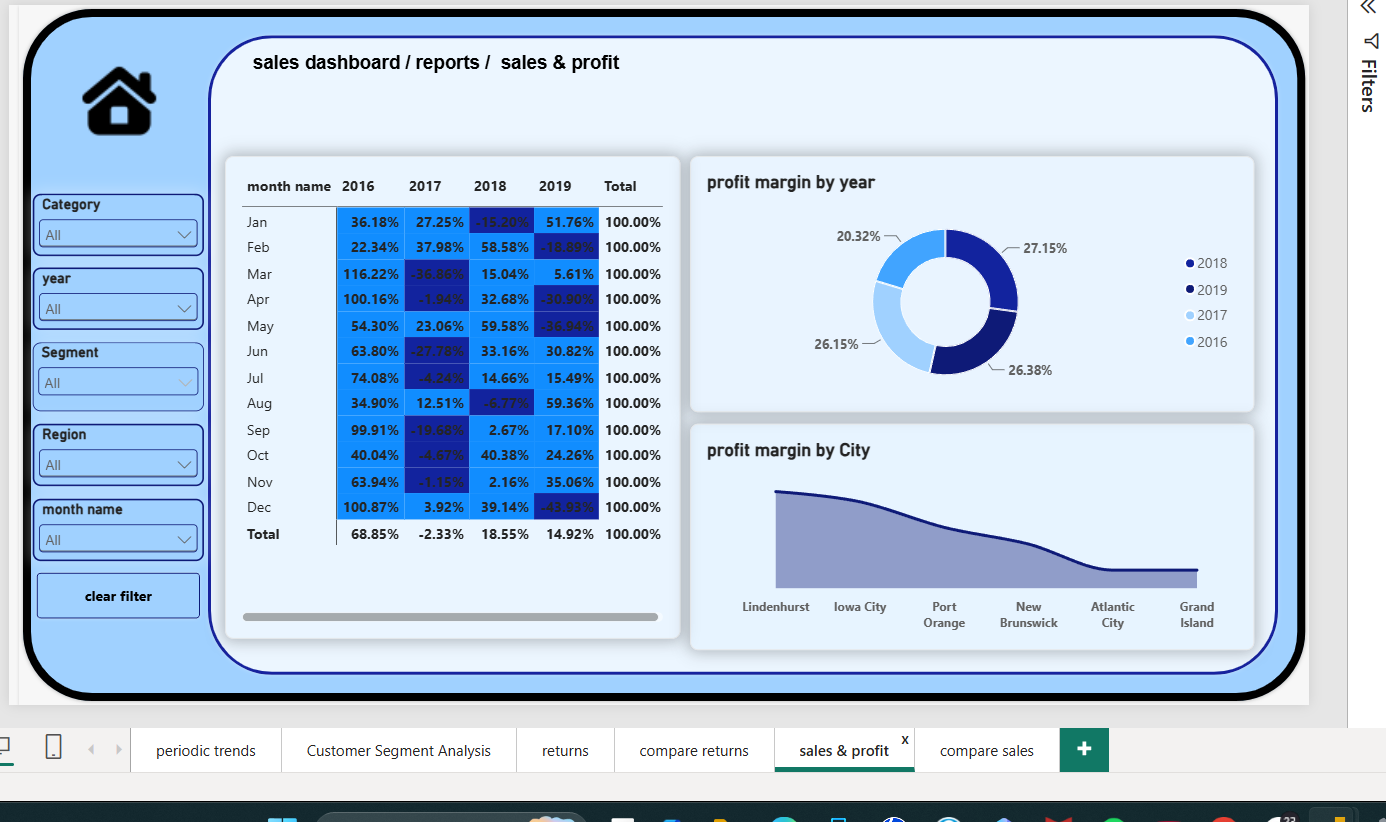

This screenshot's page, from the dashboard's own definition file:
{"tool":"powerbi","page":{"name":"sales & profit","canvas":[1300,700],"ordinal":5},"visuals":[{"type":"shape","box":[9.8,0,1290.2,700],"z":0},{"type":"shape","box":[195.1,26.8,1078,647.6],"z":1},{"type":"pivotTable","fields":{"Rows":["calender table.month name"],"Values":["Orders.compare month"],"Columns":["calender table.year"]},"box":[216.2,151.2,455,482.5],"z":2},{"type":"funnel","fields":{"Category":["Orders.Region"],"Y":["Orders.total profit"]},"box":[681.2,151.2,563.8,256.2],"z":3},{"type":"lineChart","fields":{"Y":["Orders.profit margin"],"Category":["Orders.City"]},"box":[681.2,418.8,563.8,226.2],"z":4},{"type":"image","box":[57.5,47.5,105,102.5],"z":5},{"type":"slicer","fields":{"Values":["Orders.Category"]},"box":[23.8,136.2,171.2,62.5],"z":6},{"type":"slicer","fields":{"Values":["calender table.year"]},"box":[23.8,208.8,171.2,62.5],"z":7},{"type":"slicer","fields":{"Values":["Orders.Segment"]},"box":[23.8,281.2,171.2,68.8],"z":8},{"type":"slicer","fields":{"Values":["Orders.Region"]},"box":[25,361.2,171.2,62.5],"z":9},{"type":"slicer","fields":{"Values":["calender table.month name"]},"box":[23.8,433.8,171.2,62.5],"z":10},{"type":"actionButton","box":[23.8,580,171.2,53.8],"z":11},{"type":"textbox","box":[243.8,47.5,742.5,51.2],"z":12},{"type":"slicer","fields":{"Values":["Orders.Ship Mode"]},"box":[26.2,511.2,171.2,62.5],"z":13}]}

Visuals, with their boxes on the page's 1300x700 design canvas (x1, y1, x2, y2). These are canvas units, not pixel positions in the 1386x822 screenshot, which may show the page scaled, cropped or inside an application window:
shape: l=10, t=0, r=1300, b=700
shape: l=195, t=27, r=1273, b=674
pivotTable - calender table.month name x Orders.compare month: l=216, t=151, r=671, b=634
funnel - Orders.Region x Orders.total profit: l=681, t=151, r=1245, b=407
lineChart - Orders.profit margin x Orders.City: l=681, t=419, r=1245, b=645
image: l=58, t=48, r=162, b=150
slicer - Orders.Category: l=24, t=136, r=195, b=199
slicer - calender table.year: l=24, t=209, r=195, b=271
slicer - Orders.Segment: l=24, t=281, r=195, b=350
slicer - Orders.Region: l=25, t=361, r=196, b=424
slicer - calender table.month name: l=24, t=434, r=195, b=496
actionButton: l=24, t=580, r=195, b=634
textbox: l=244, t=48, r=986, b=99
slicer - Orders.Ship Mode: l=26, t=511, r=197, b=574
